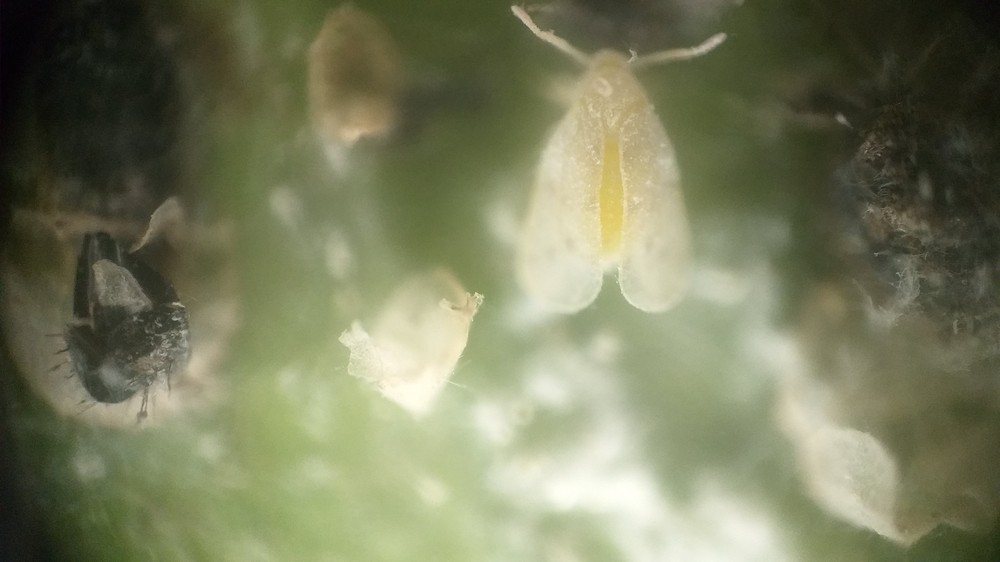Mosca Blanca: (476, 4, 767, 347)
